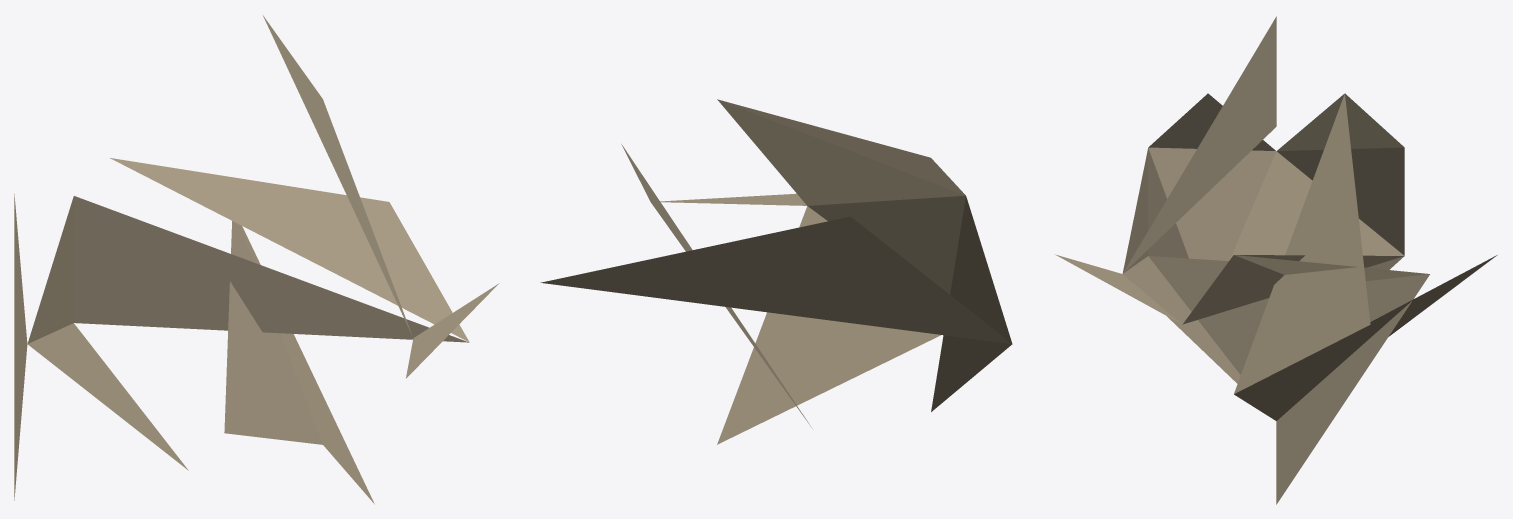
File: mero_murike.glb
3 renders of one model, left to right at view 1: azimuth 30°, elevation 25°; view 2: azimuth 150°, elevation 25°; view 3: azimuth 270°, elevation 25°, orthographic. The views are drawn at different scales.
Visible parts, largest first — view 1: mero_murike; view 2: mero_murike; view 3: mero_murike.
Boxes of the visible parts, x1,y1,x2,y2 form: mero_murike: (14,15,499,504); mero_murike: (540,99,1012,444); mero_murike: (1055,16,1497,504).
Size of the model in its own units: 1.13 by 1.14 by 1.04.
